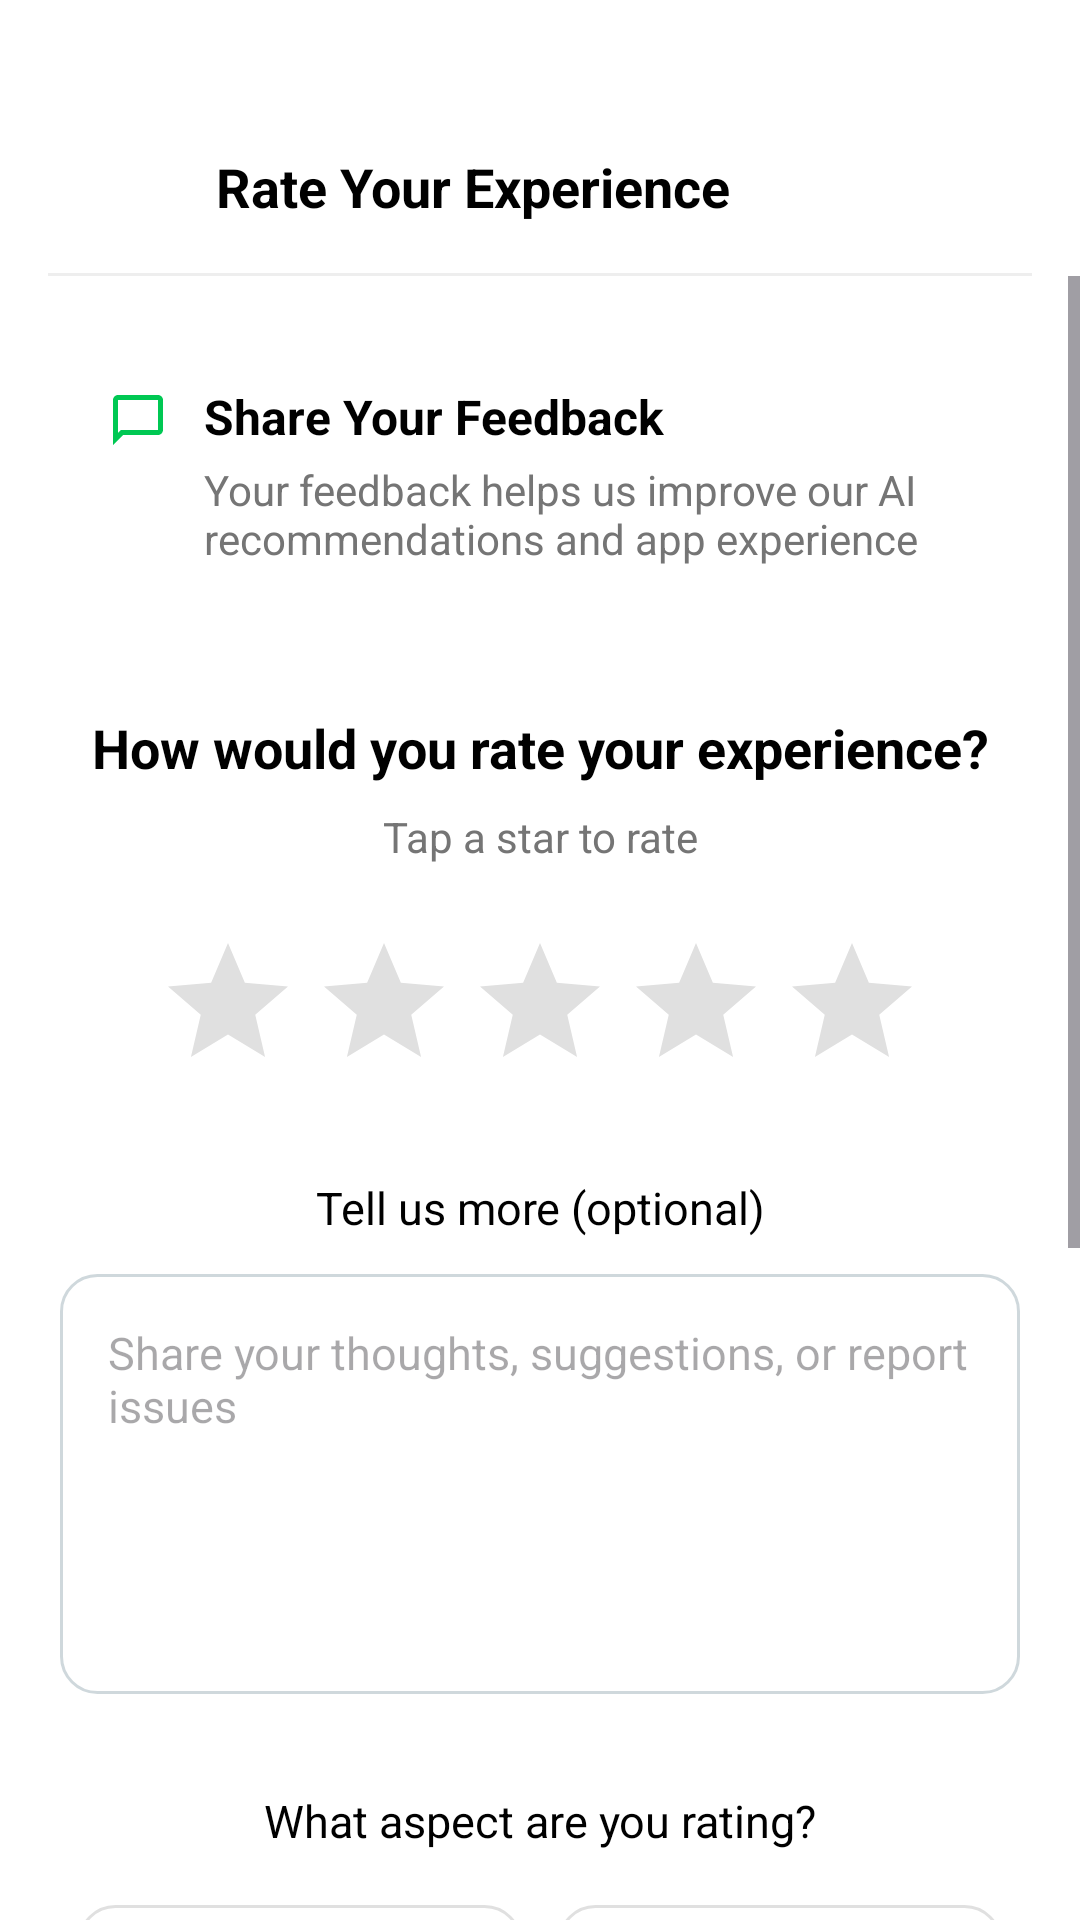

Point at icon controls on the screen. Image size 1080px x 1920px, points as (x,y).
message: (138,420)
